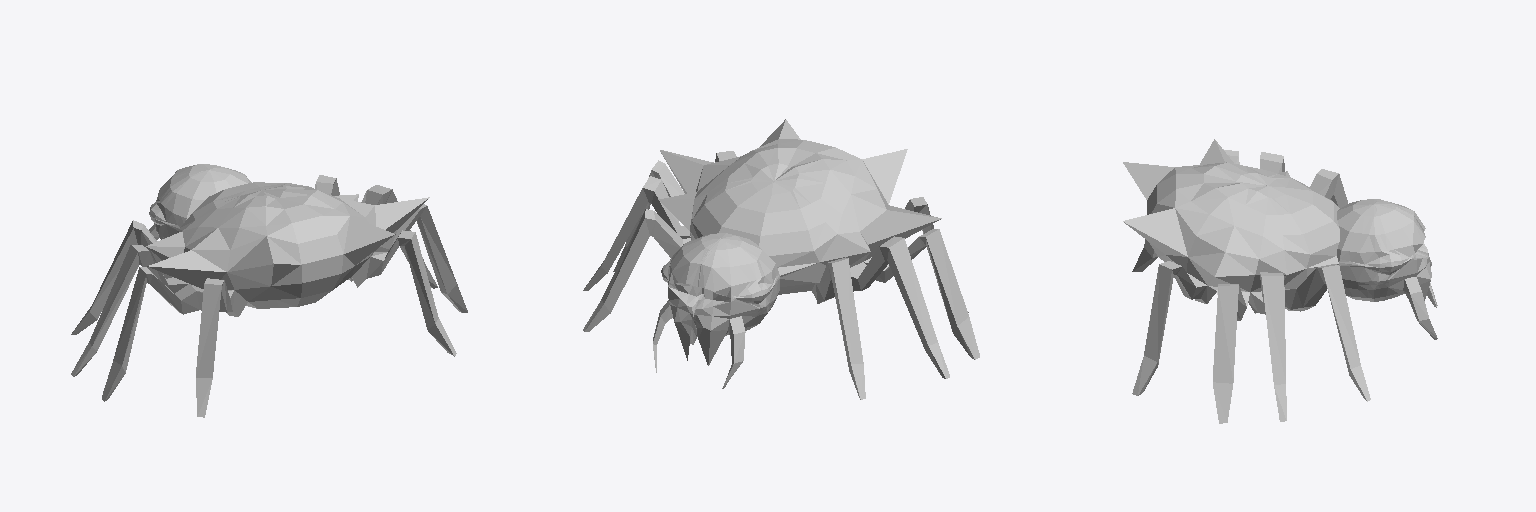
Rendered from spider_large.obj.
3 renders of one model, left to right at view 1: azimuth 30°, elevation 25°; view 2: azimuth 150°, elevation 25°; view 3: azimuth 270°, elevation 25°, orthographic.
Visible parts, largest first — view 1: pSphere5; view 2: pSphere5; view 3: pSphere5.
Part boxes in pixels (x1,y1,x2,y2): pSphere5: (71,164,467,417); pSphere5: (583,119,979,399); pSphere5: (1123,139,1437,423).
Size of the model in its own units: 15.37 by 6.35 by 11.49.